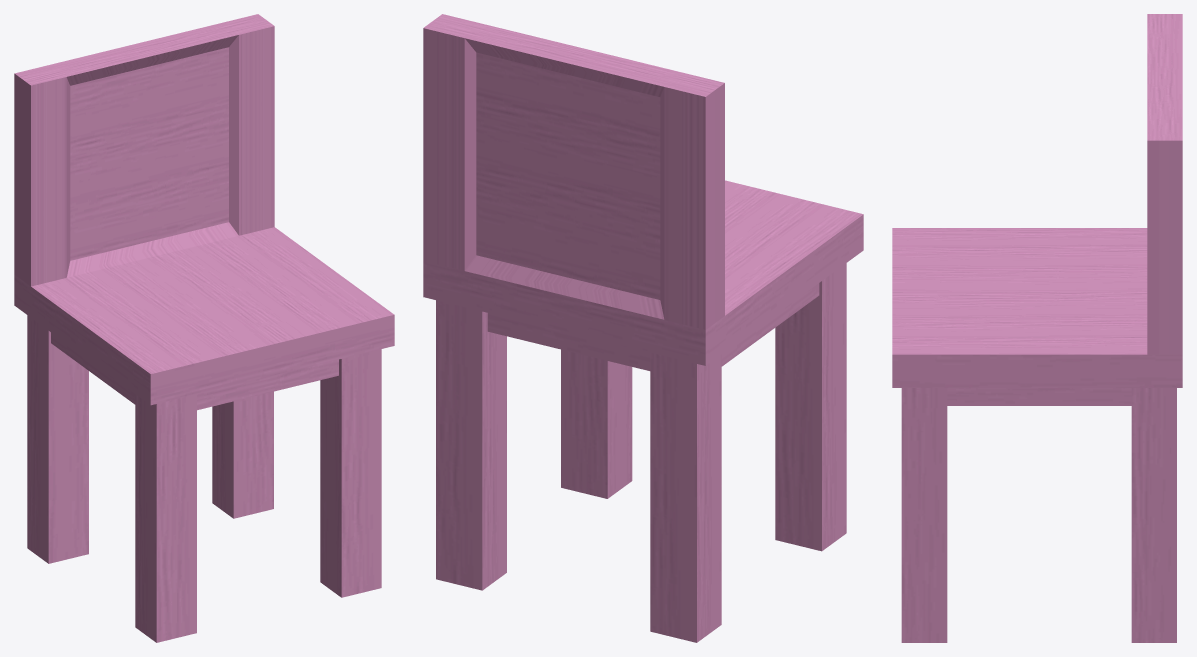
The model's file is Little_Chair_D.FBX.
3 views of the same model, side by side, from view 1: azimuth 30°, elevation 25°; view 2: azimuth 150°, elevation 25°; view 3: azimuth 270°, elevation 25° (orthographic). The views are drawn at different scales.
Parts seen in each view (by area): view 1: Little_Chair; view 2: Little_Chair; view 3: Little_Chair.
Boxes of the visible parts, left/top/right/bottom form: Little_Chair: left=14, top=14, right=394, bottom=642; Little_Chair: left=423, top=14, right=863, bottom=642; Little_Chair: left=892, top=14, right=1182, bottom=642.
Bounding box in the file's own units: 58.74 × 109 × 56.91.
